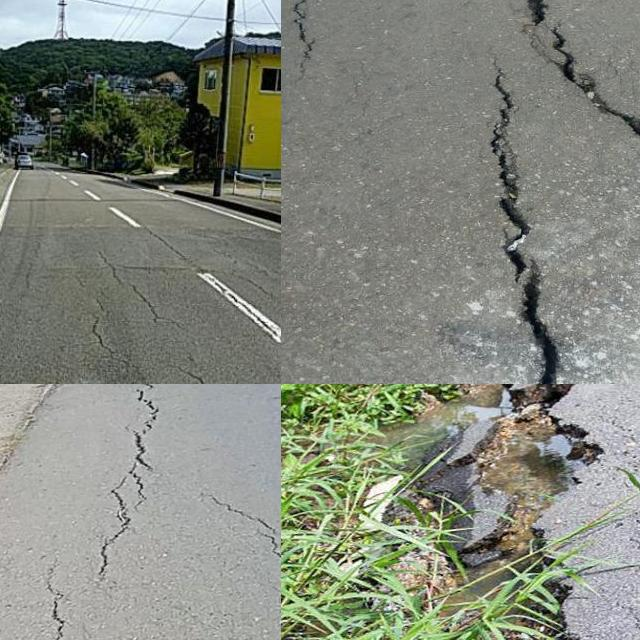Memanjang: (482, 65, 562, 384), (503, 0, 640, 159), (78, 384, 161, 610), (198, 486, 281, 582), (89, 249, 170, 327), (281, 0, 329, 79), (37, 577, 88, 640), (153, 350, 214, 384)
Pinggir: (377, 384, 596, 640)
